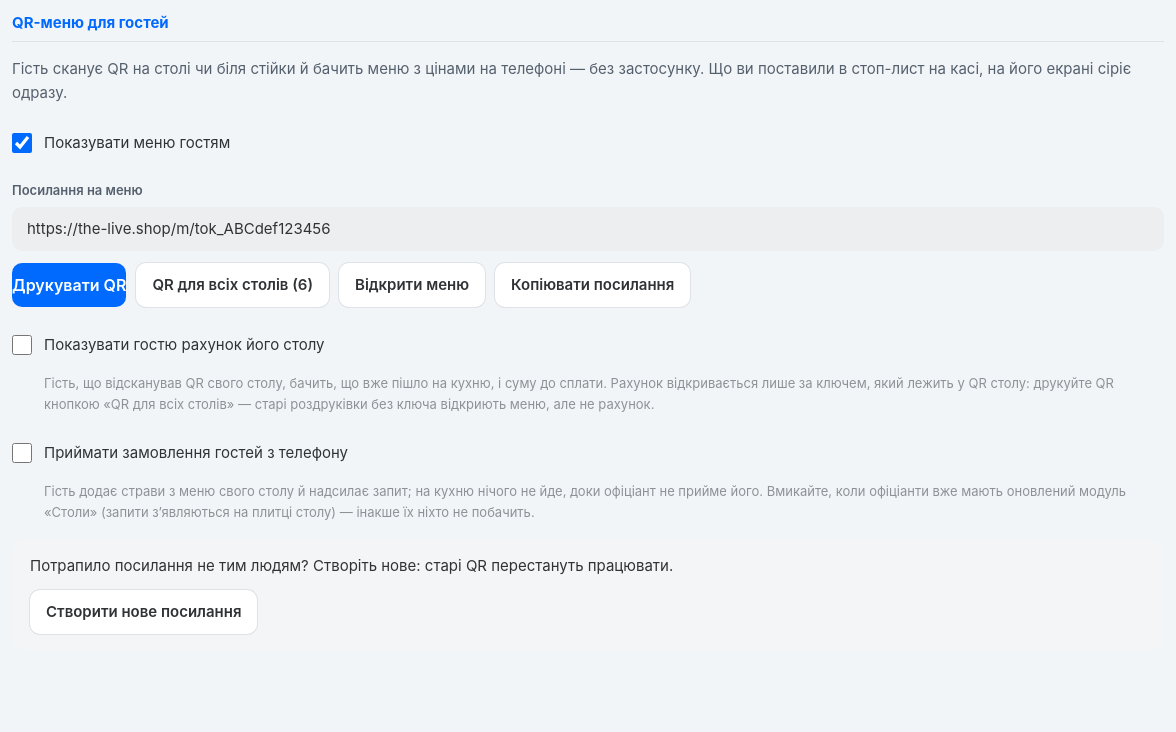
Test: PublicMenuCard › offers the ordering switch beside the bill one, says what it needs, and switches only its own field
This screenshot has width=1176, height=732.
Expected: the text "оновлений модуль «Столи»" is shown, x1=44 y1=483 x2=1126 y2=520
Step 1. Click the checkbox labelled "Приймати замовлення гостей з телефону" → (22, 453), box x1=12 y1=443 x2=32 y2=463
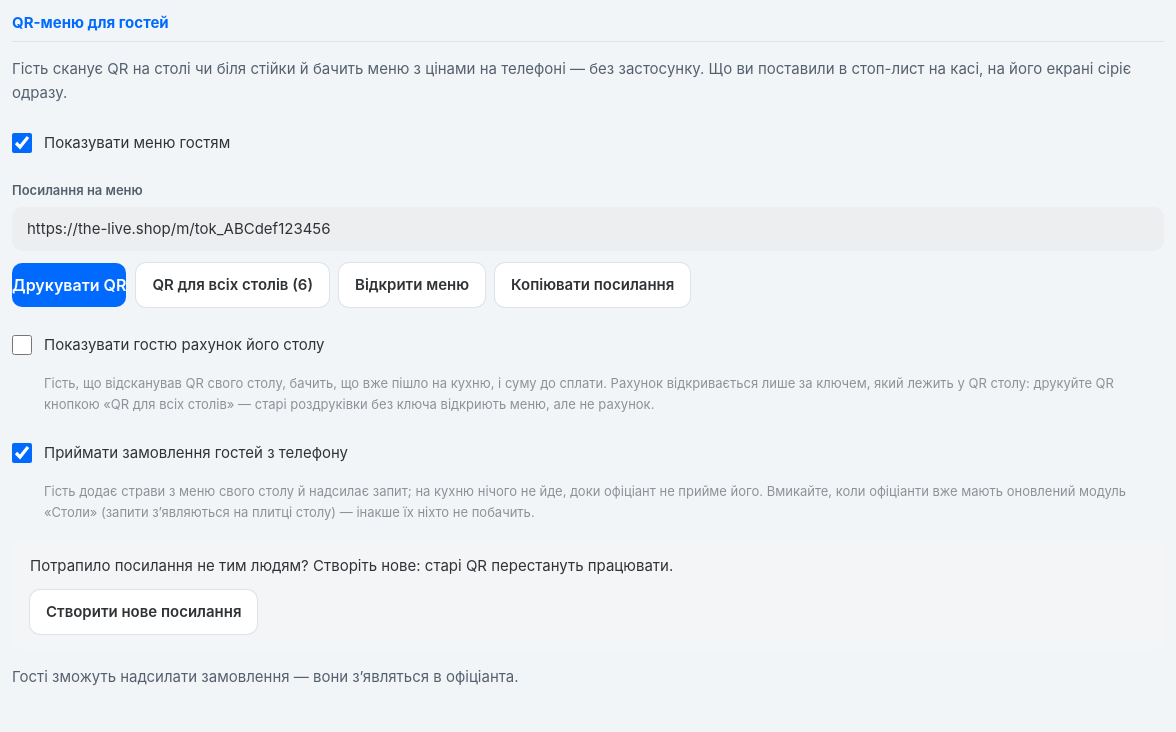
Now the checkbox labelled "Приймати замовлення гостей з телефону" is checked, box x1=12 y1=443 x2=32 y2=463
Now the message shows "з’являться в офіціанта", box x1=12 y1=667 x2=518 y2=686
